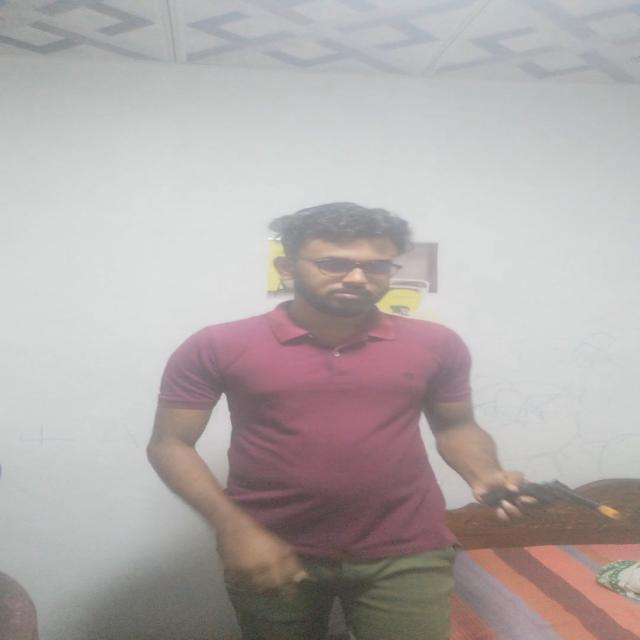Gun_Holder: (465, 472, 630, 526)
Person: (150, 195, 529, 640)
